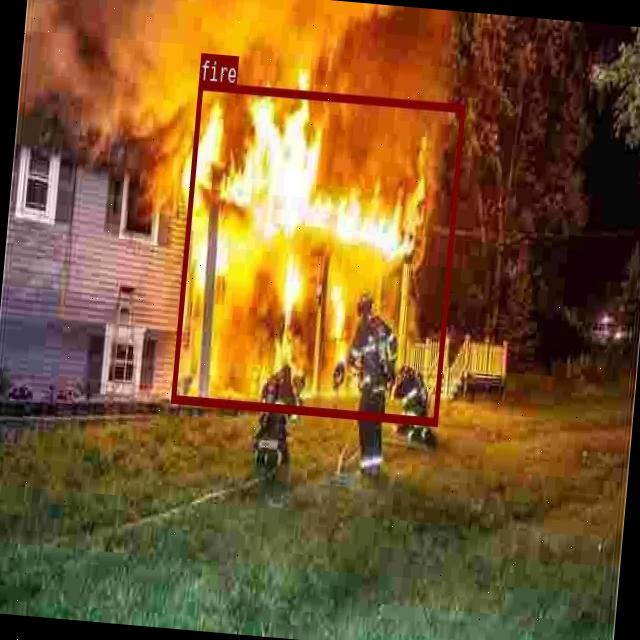fire: (170, 80, 463, 424)
